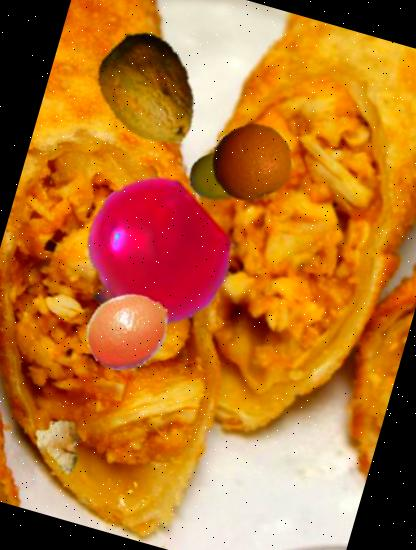Ginger: (23, 412, 96, 484)
Maracuja: (182, 141, 250, 210)
Orange: (202, 112, 302, 212)
Papaya: (74, 16, 223, 164)
Pear: (208, 116, 274, 182)
Redcurrant: (60, 164, 244, 348)
Tangelo: (75, 277, 183, 385)
